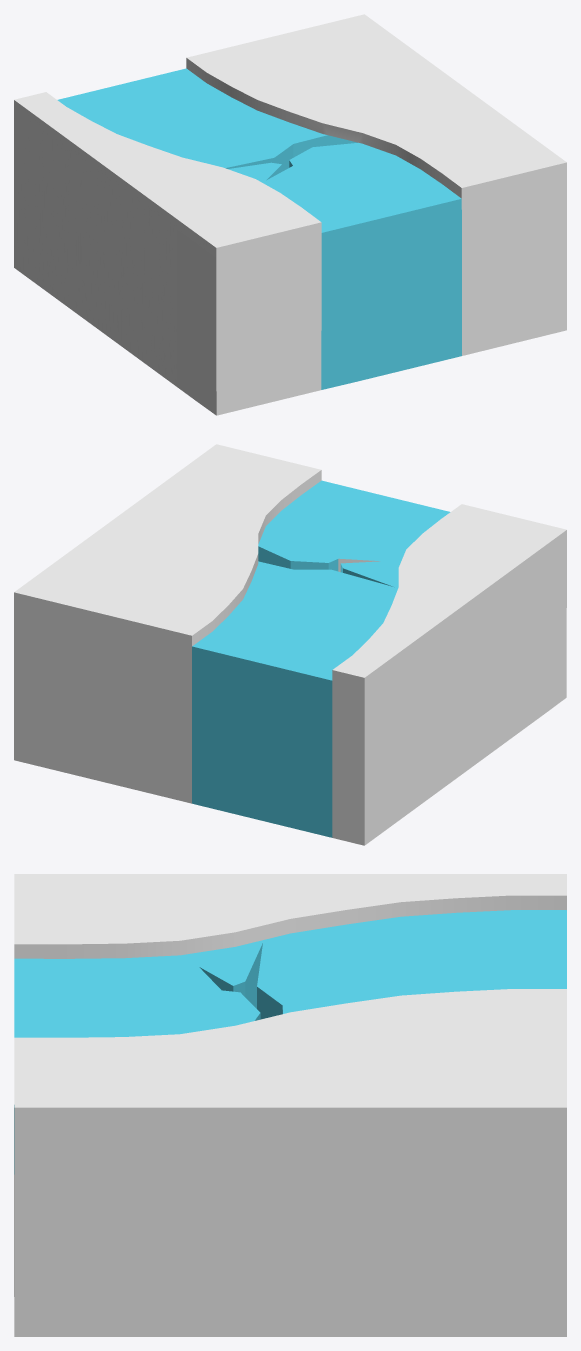
The model's file is sakeme1.fbx.
3 renders of one model, top to bottom at view 1: azimuth 30°, elevation 25°; view 2: azimuth 150°, elevation 25°; view 3: azimuth 270°, elevation 25°, orthographic. The views are drawn at different scales.
Parts seen in each view (by area): view 1: pCube1; view 2: pCube1; view 3: pCube1.
Boxes of the visible parts, x1,y1,x2,y2 form: pCube1: (14,14,566,415); pCube1: (14,444,566,845); pCube1: (14,874,566,1336).
Size of the model in its own units: 24.03 by 11 by 24.05.
Materials: 1 (1 with a texture image).
